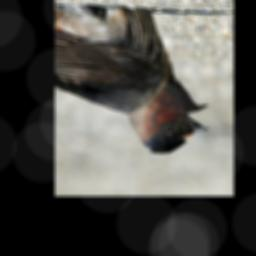Swallow: (55, 2, 211, 155)
